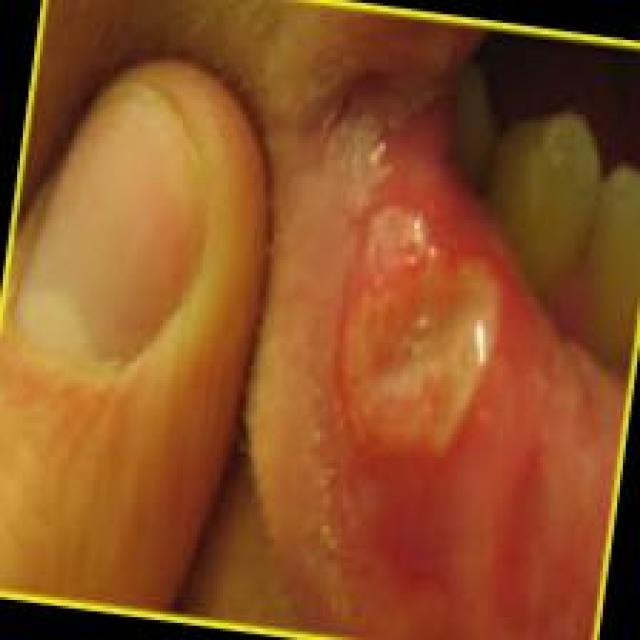processing_area: (274, 38, 628, 637)
ulcer-detection: (326, 185, 540, 504)
